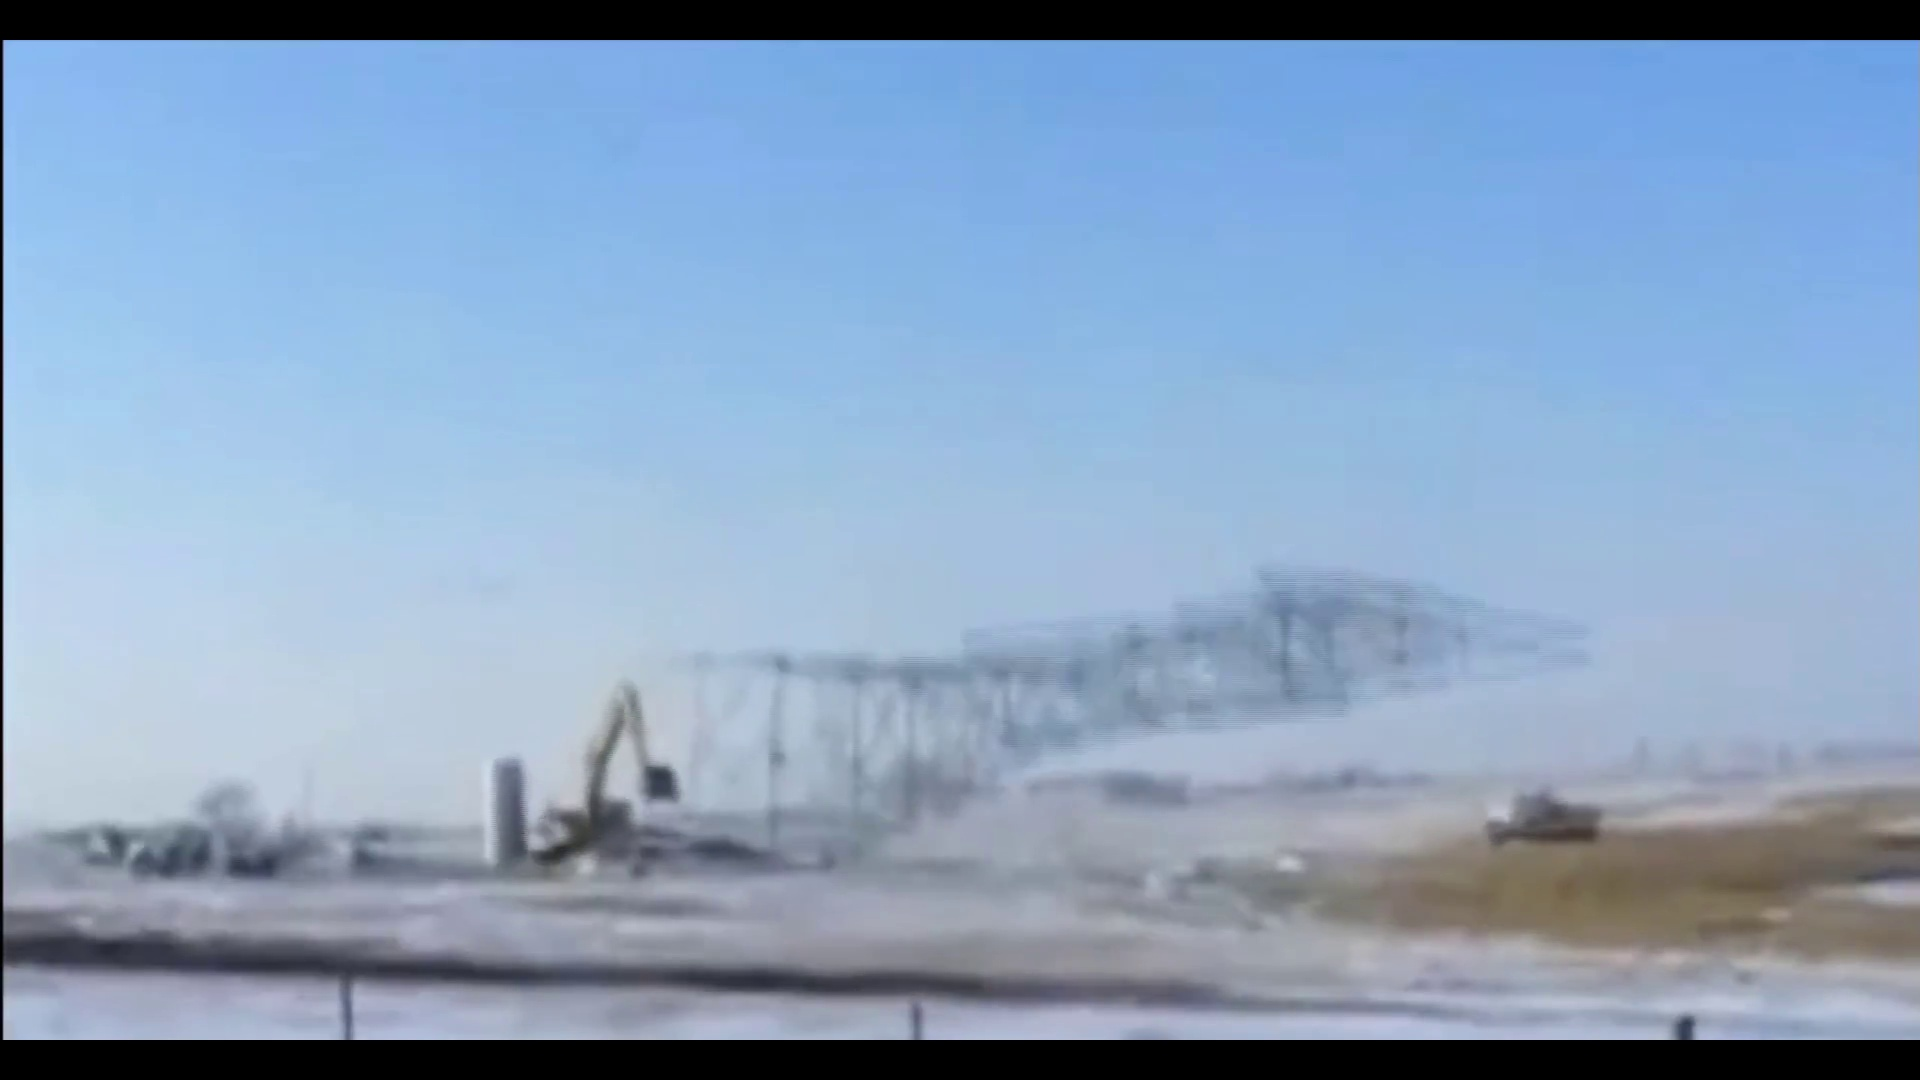tower_down: (673, 487, 1615, 847)
